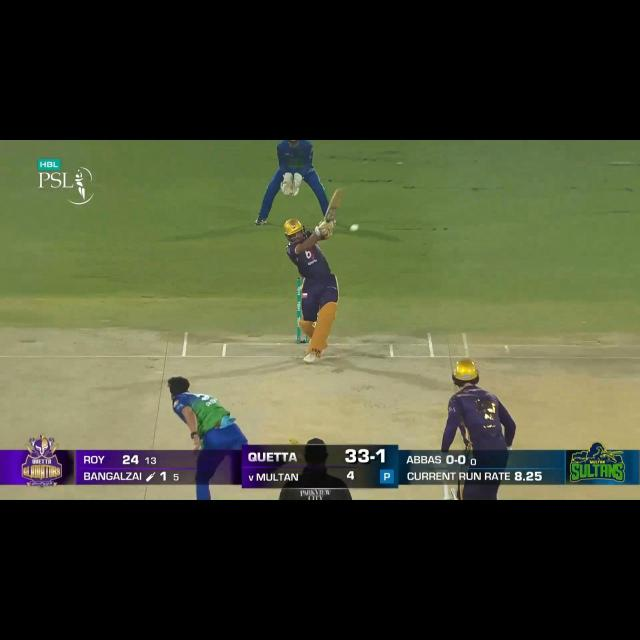bat: (327, 187, 348, 220), (443, 482, 452, 501)
toe: (334, 189, 346, 195)
